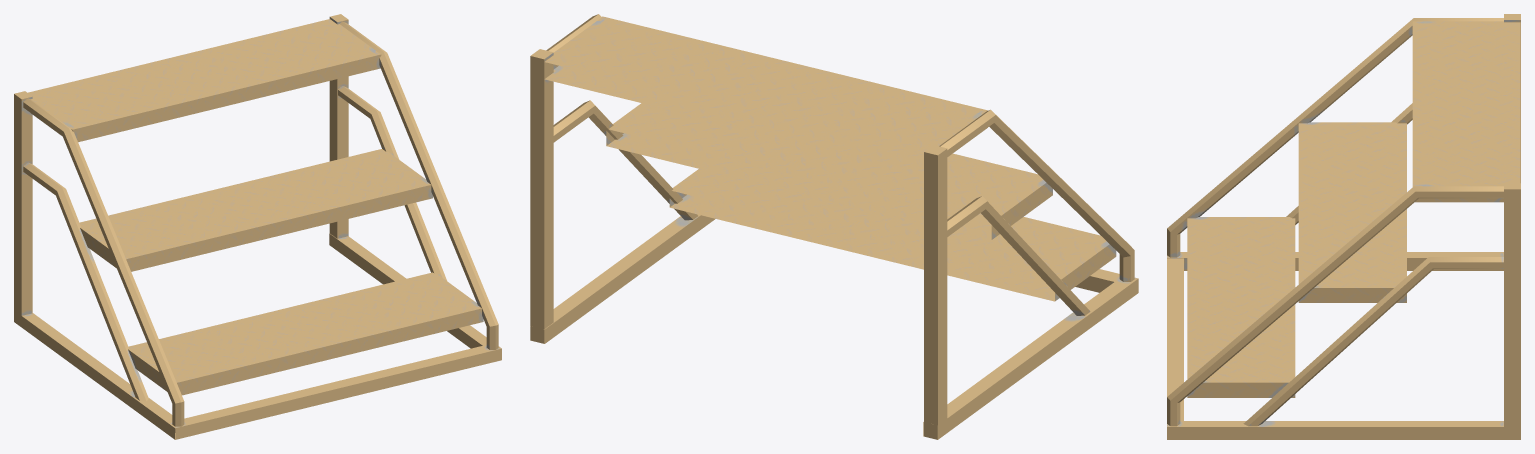
The model's file is tizi.FBX.
The picture shows the model from 3 angles, left to right: view 1: azimuth 30°, elevation 25°; view 2: azimuth 150°, elevation 25°; view 3: azimuth 270°, elevation 25°; orthographic projection. The views are drawn at different scales.
Parts seen in each view (by area): view 1: YF_Model_tizi; view 2: YF_Model_tizi; view 3: YF_Model_tizi.
Boxes of the visible parts, x1,y1,x2,y2 form: YF_Model_tizi: [14, 14, 501, 439]; YF_Model_tizi: [530, 14, 1138, 439]; YF_Model_tizi: [1167, 14, 1520, 439].
Bounding box in the file's own units: 41 × 27.36 × 34.99.
1 material, 1 textured.
